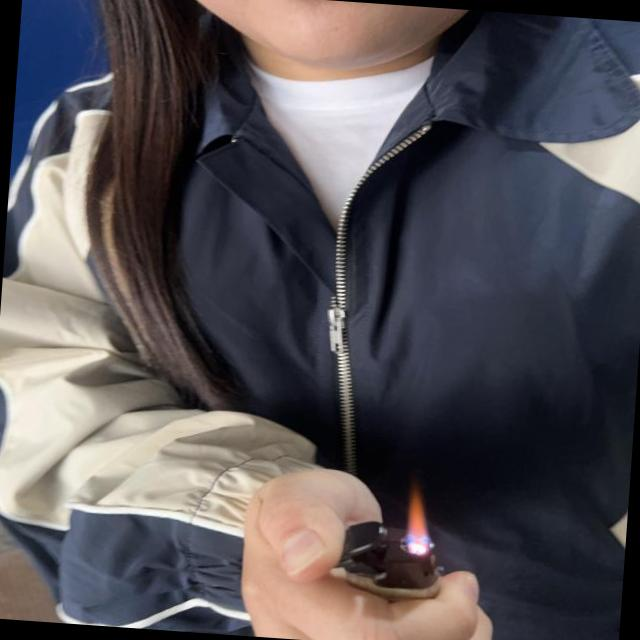Fire: (404, 484, 436, 556)
